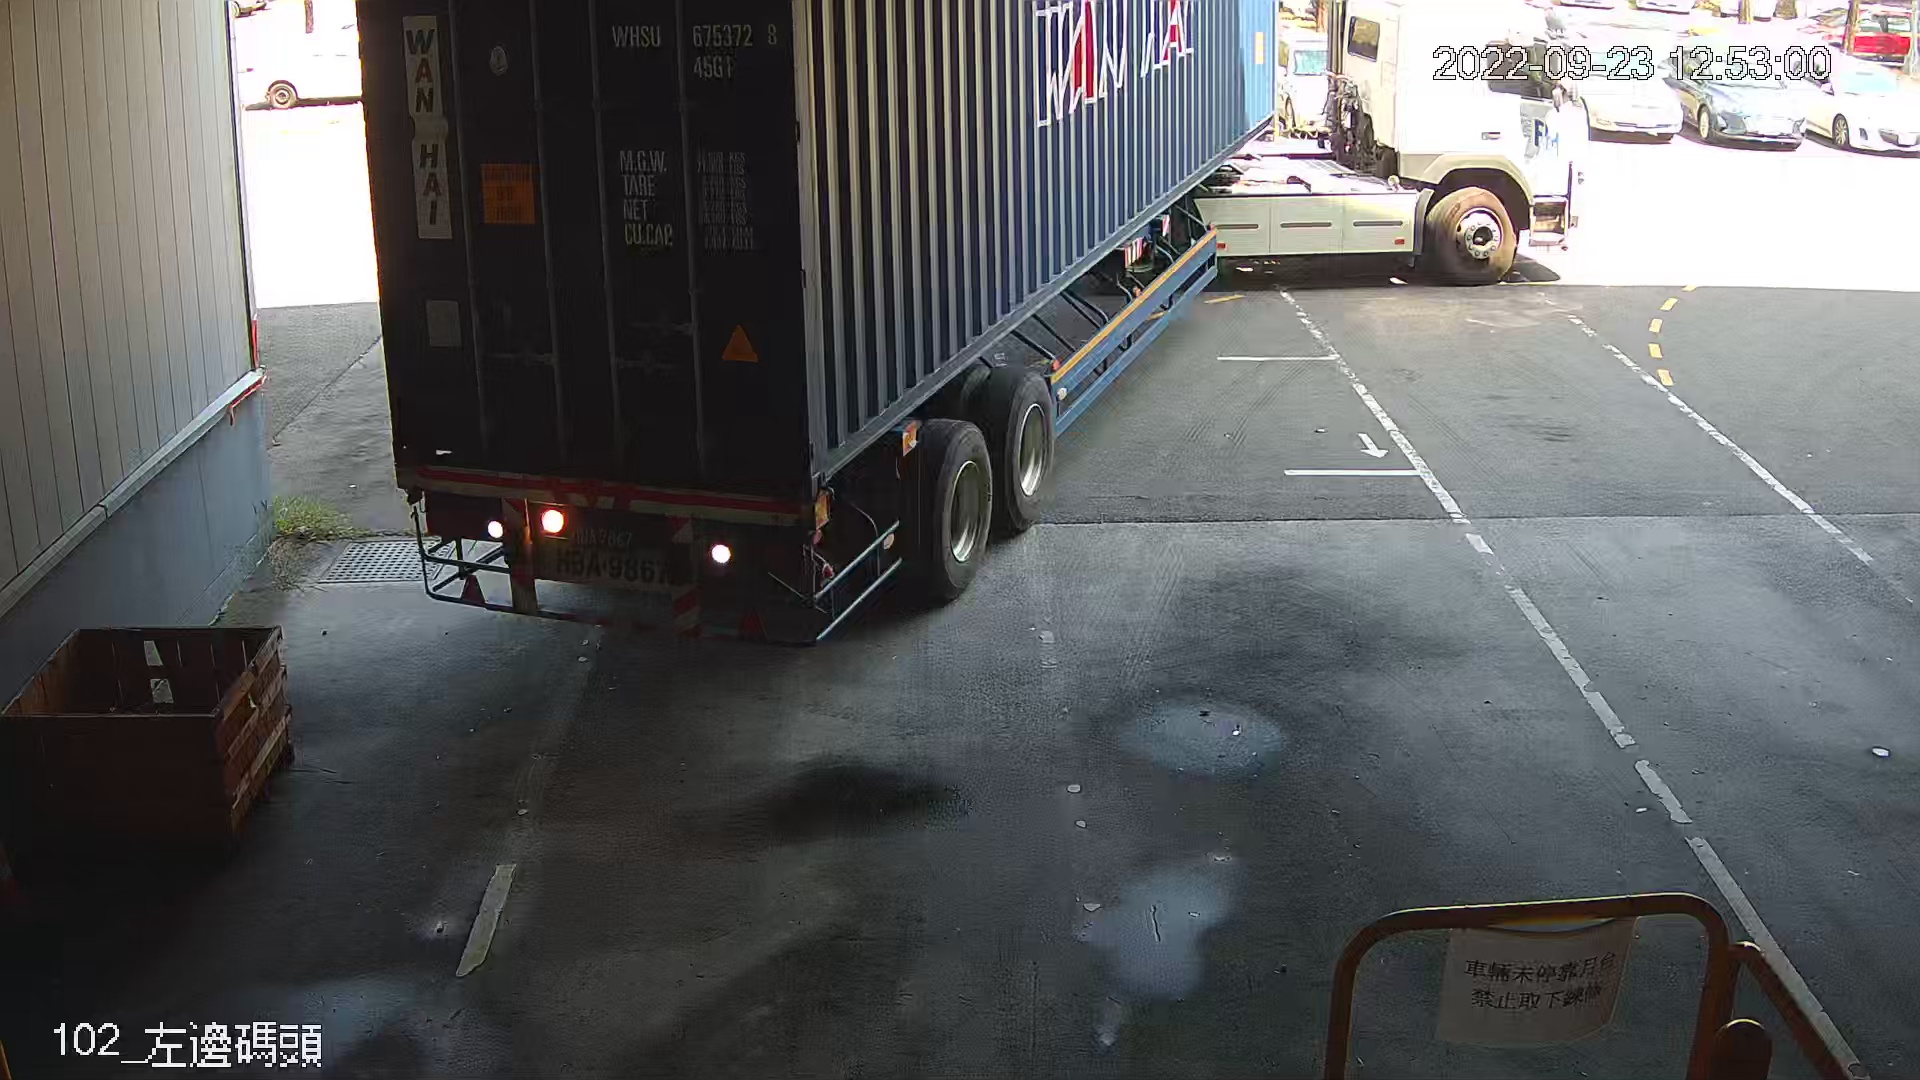container: (601, 15, 789, 84)
